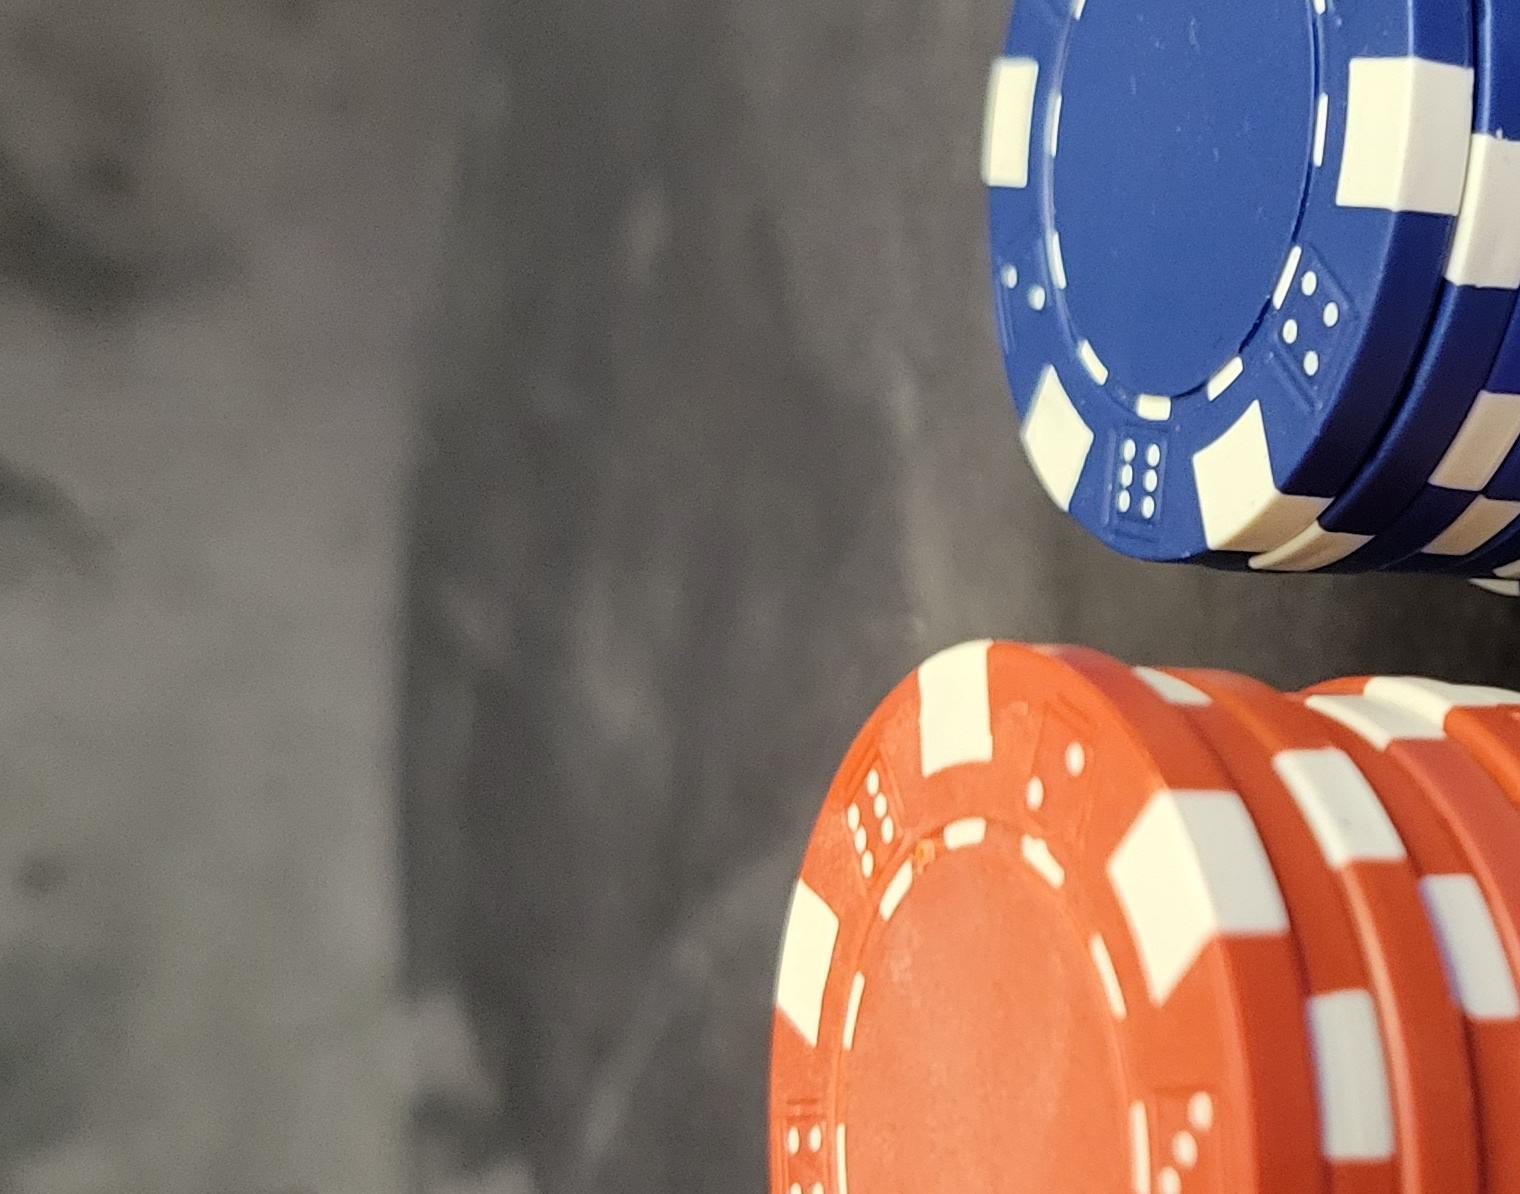Chip: (1, 298, 1006, 1194)
